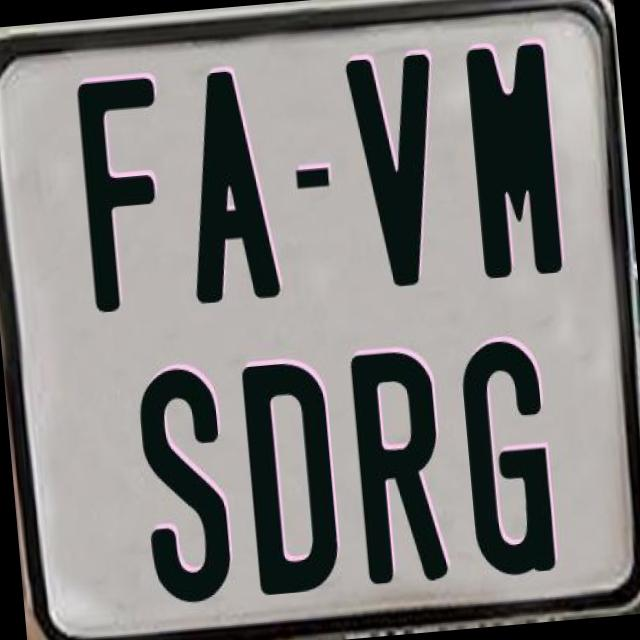A: (172, 66, 282, 308)
D: (240, 359, 340, 596)
F: (76, 75, 177, 312)
G: (454, 333, 554, 580)
M: (460, 38, 558, 274)
R: (348, 344, 450, 582)
S: (132, 362, 234, 610)
V: (344, 50, 450, 295)
